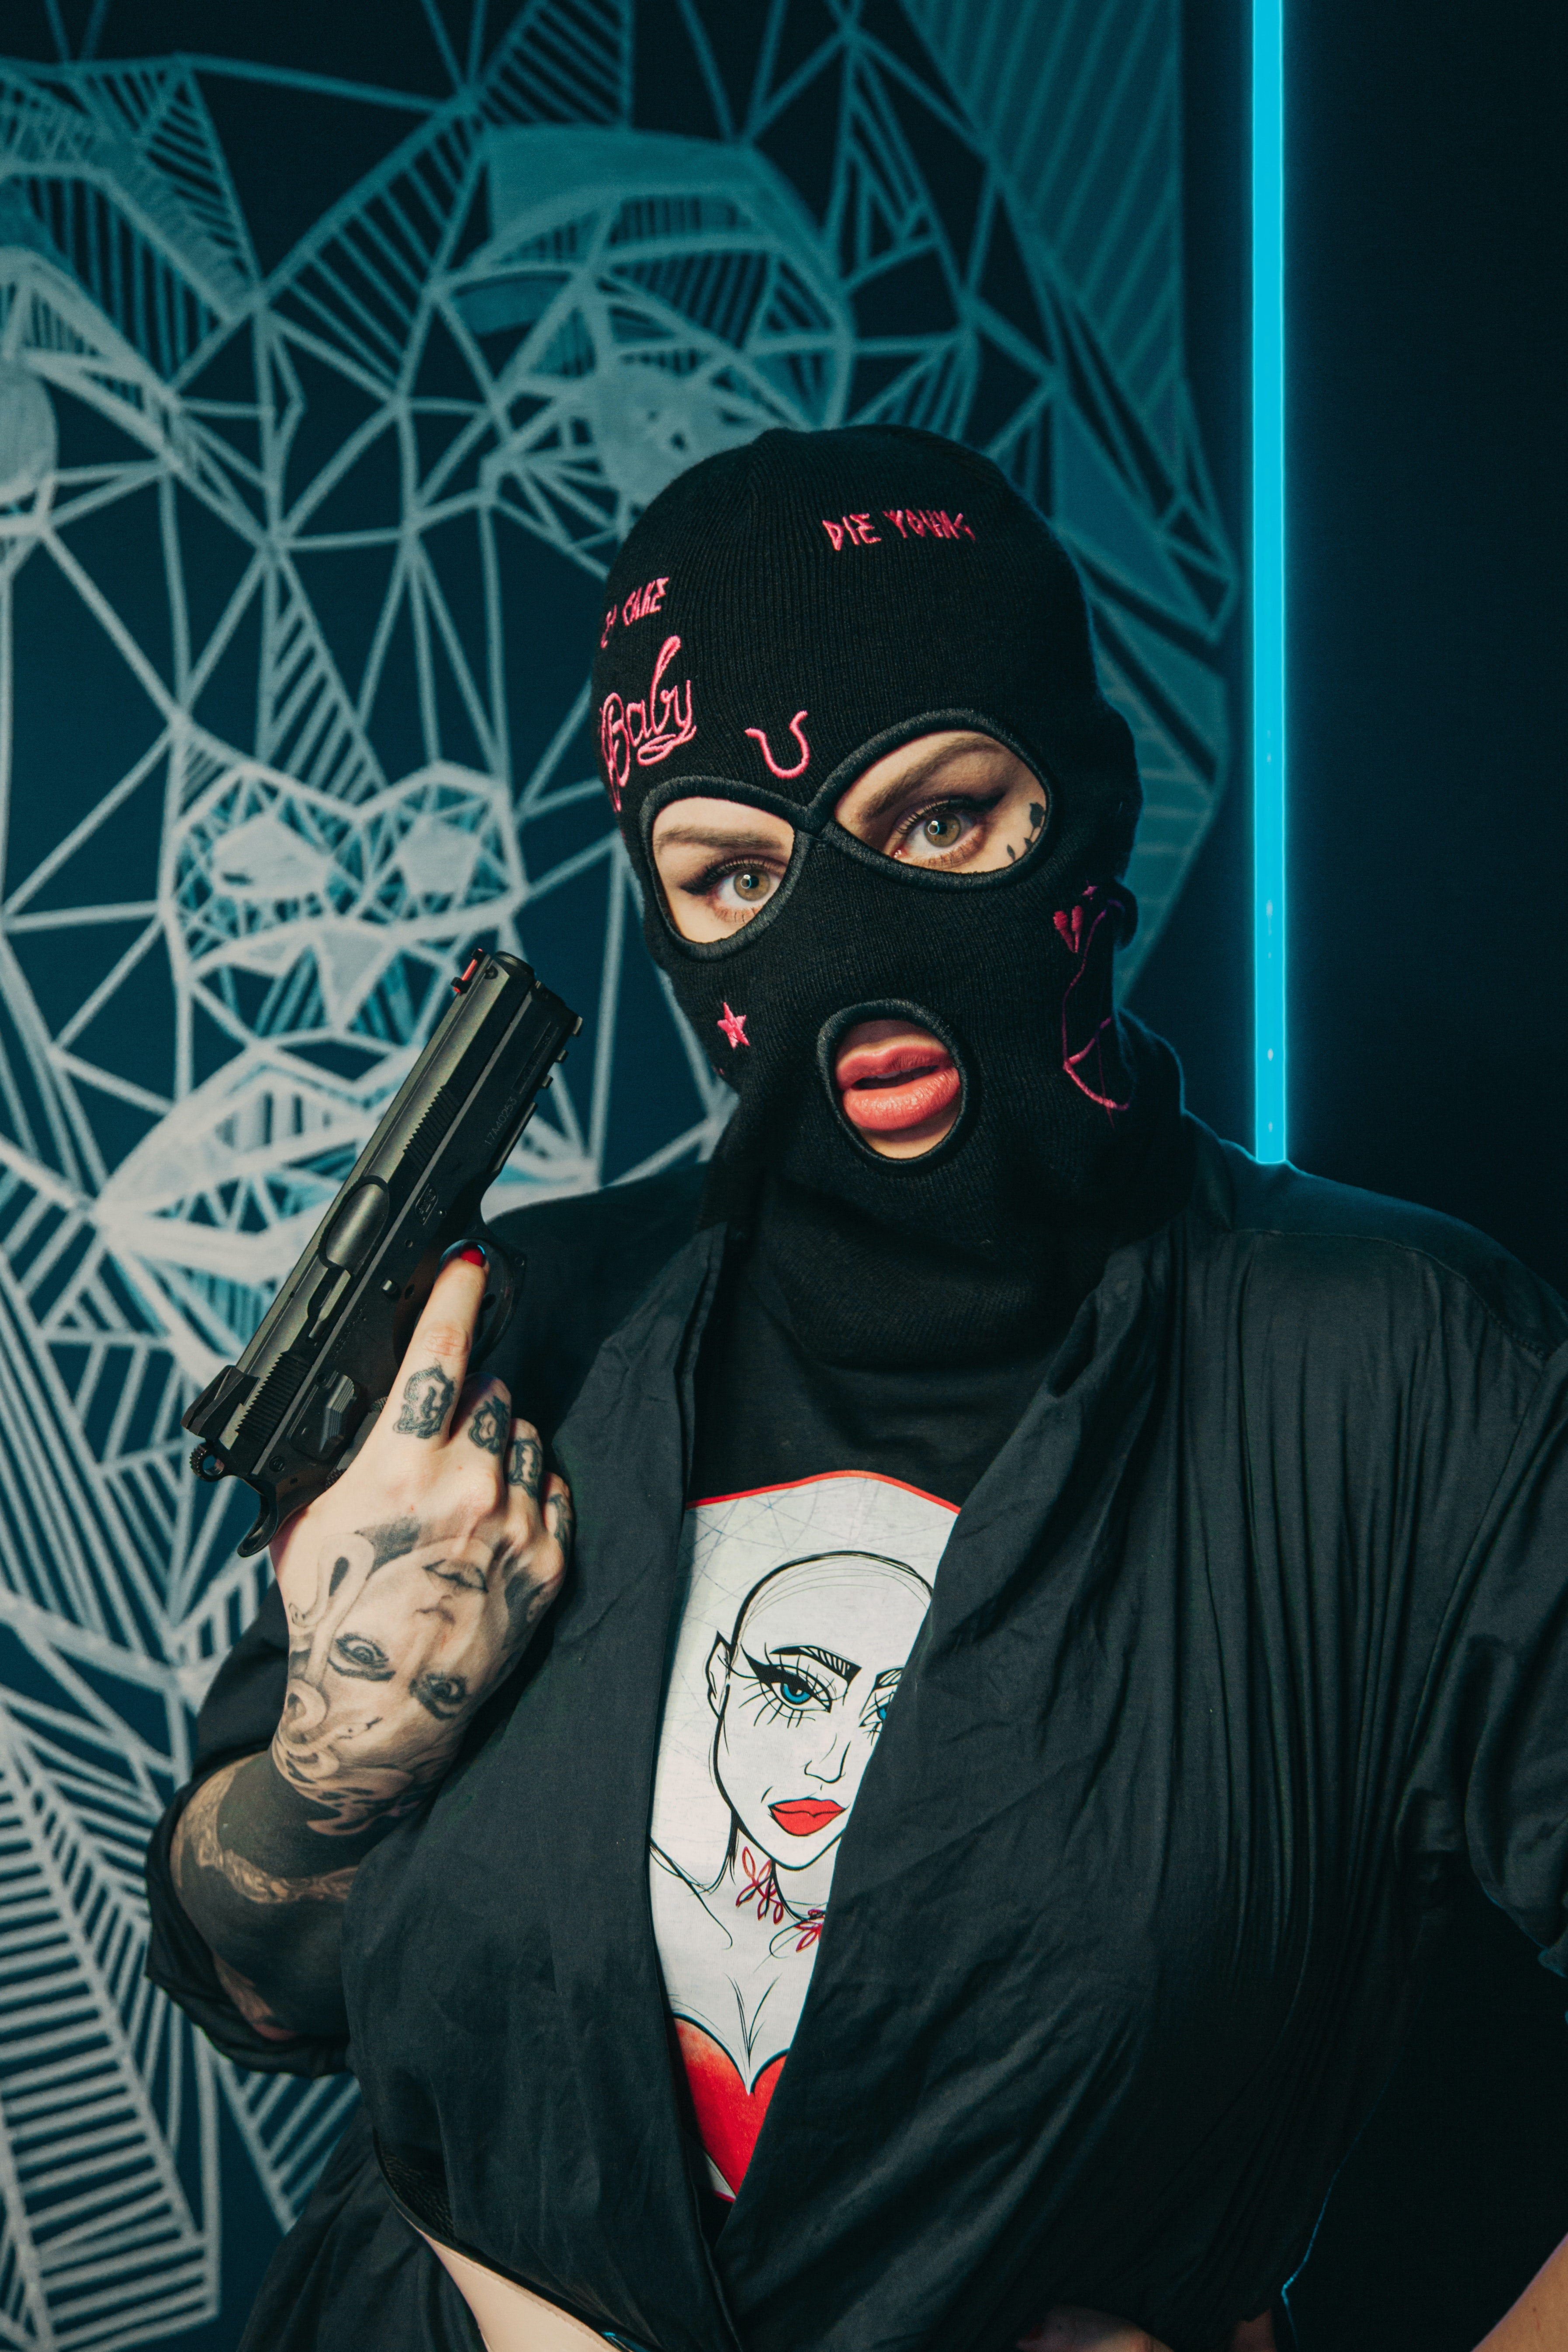gun: (180, 938, 593, 1542)
person: (147, 426, 1568, 2351)
